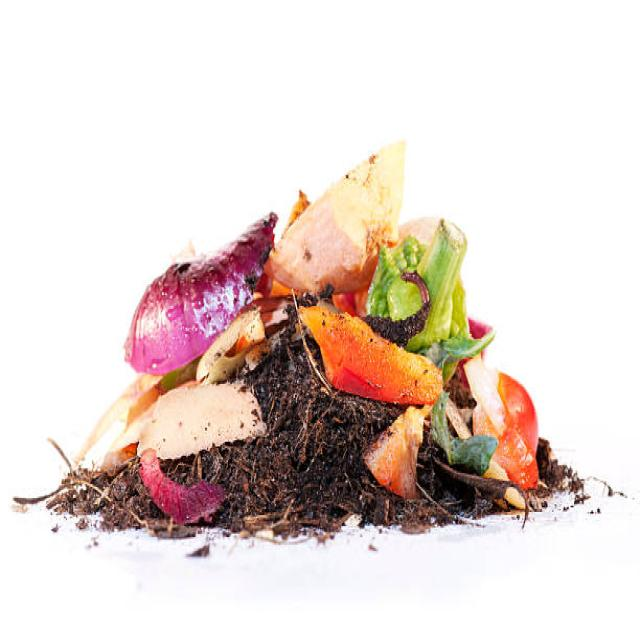Organic: (41, 142, 593, 556)
